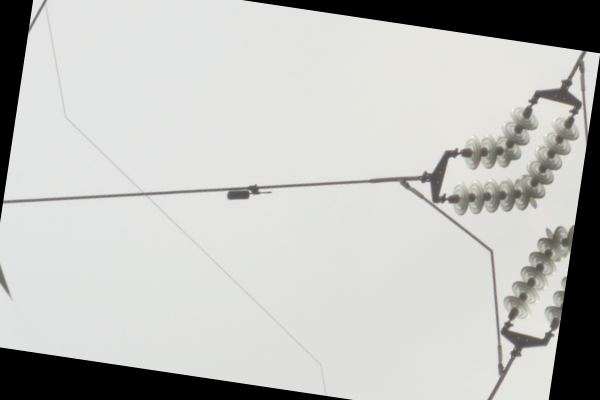damper_defect: (224, 183, 275, 200)
